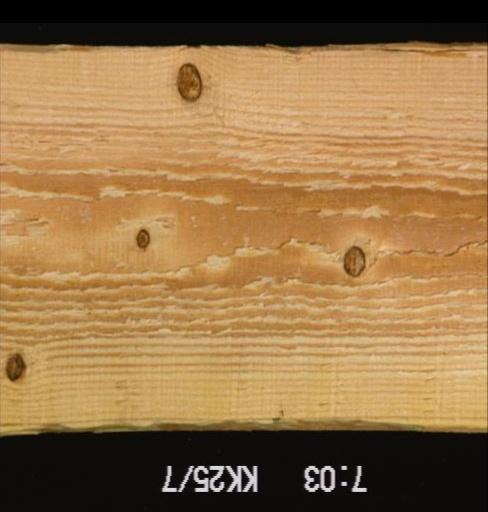dry_knot: (340, 244, 367, 278), (2, 349, 28, 384), (133, 225, 152, 250)
wave: (3, 37, 485, 60), (91, 406, 485, 431)
